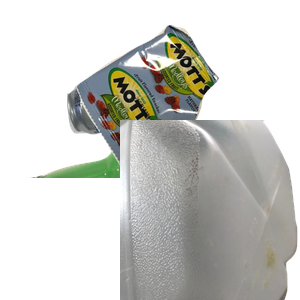glass: (23, 120, 263, 300)
metal: (65, 65, 231, 192)
plastic: (120, 120, 300, 300)
trash: (74, 22, 300, 185)
